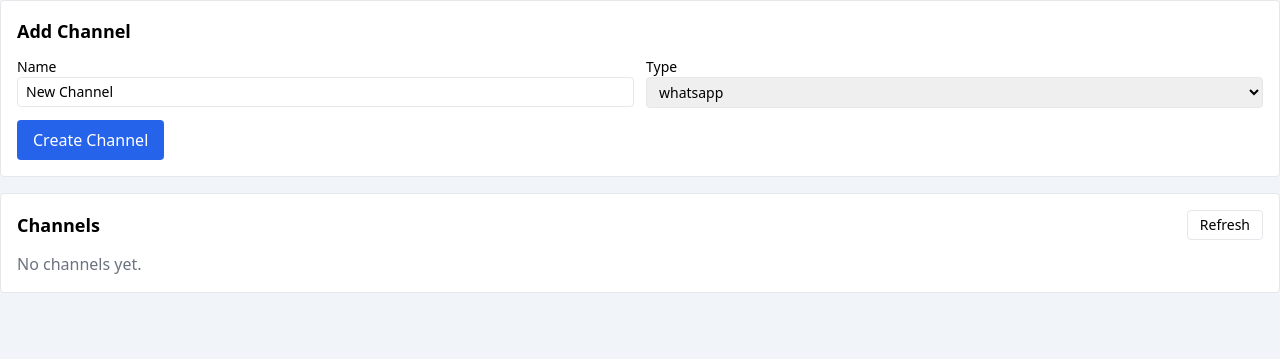
ChannelsPage › creates a channel and refreshes list
Replace the text in the field labelled "Name" with "Support Line". click: (326, 92)
box: [17, 77, 634, 107]
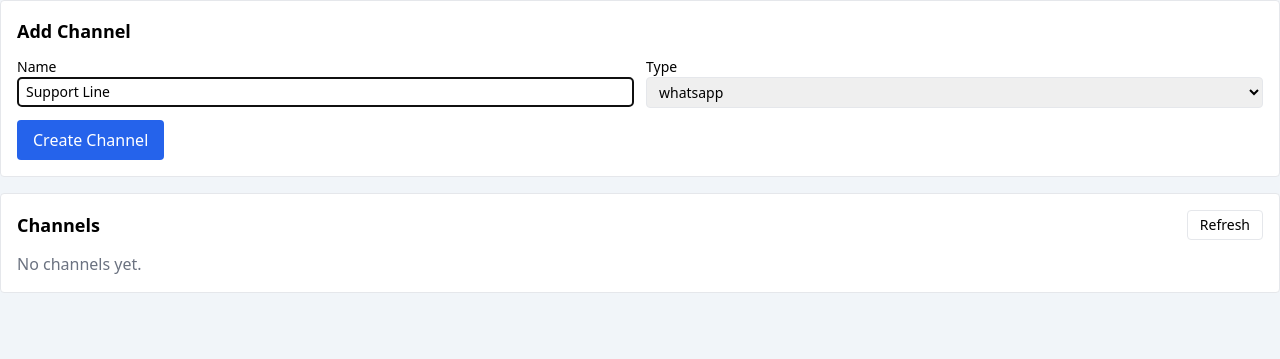
Select "sms" in the dropdown labelled "Type". click: (954, 92)
box: [646, 77, 1263, 108]
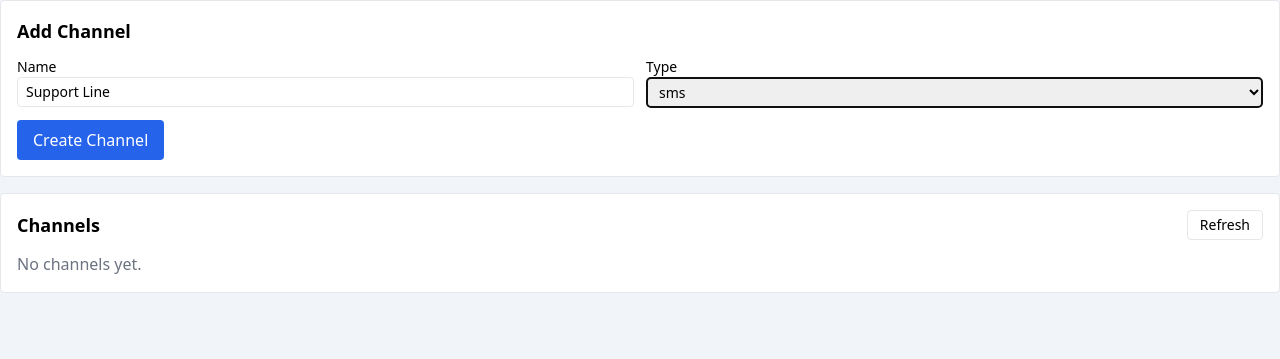
Click the button "Create Channel". click: (91, 140)
box: [17, 120, 164, 160]
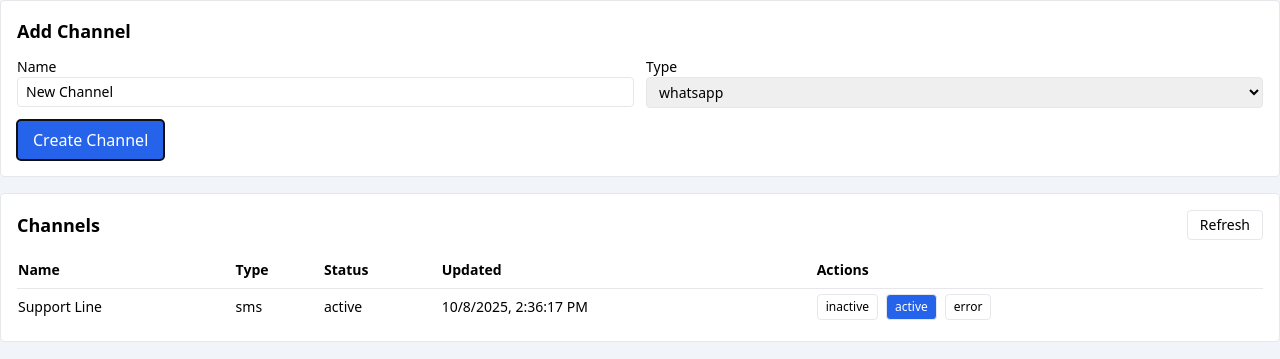
Expected: the text "Support Line" is shown, [17, 288, 235, 325]
